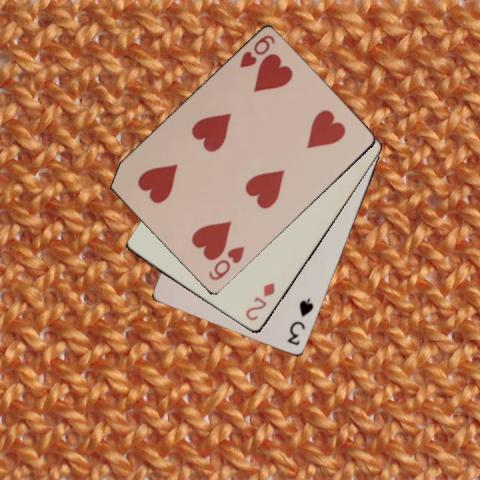2d: (243, 280, 276, 323)
3s: (284, 296, 315, 347)
6h: (205, 243, 246, 283), (236, 32, 276, 70)
